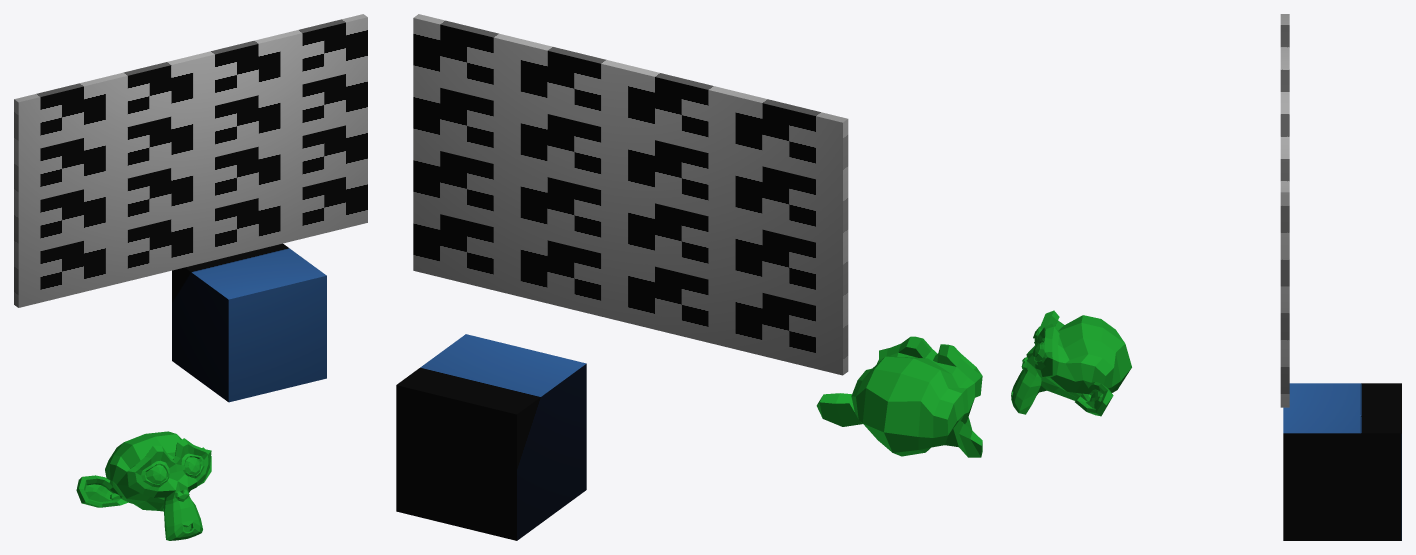
The model's file is test - flat.obj.
3 renders of one model, left to right at view 1: azimuth 30°, elevation 25°; view 2: azimuth 150°, elevation 25°; view 3: azimuth 270°, elevation 25°, orthographic. The views are drawn at different scales.
Parts seen in each view (by area): view 1: screen, Cube, Suzanne; view 2: screen, Cube, Suzanne; view 3: Cube, Suzanne, screen.
Part boxes in pixels (x1,y1,x2,y2): screen: (14, 14, 367, 307); Cube: (172, 243, 326, 402); Suzanne: (76, 431, 211, 540); screen: (413, 14, 848, 375); Cube: (396, 334, 586, 540); Suzanne: (816, 336, 982, 457); Cube: (1283, 383, 1401, 540); Suzanne: (1011, 310, 1131, 416); screen: (1280, 14, 1289, 407).
Size of what is drawn, in the model's own units: 7.63 by 6.93 by 6.58.
3 materials, 2 textured.
